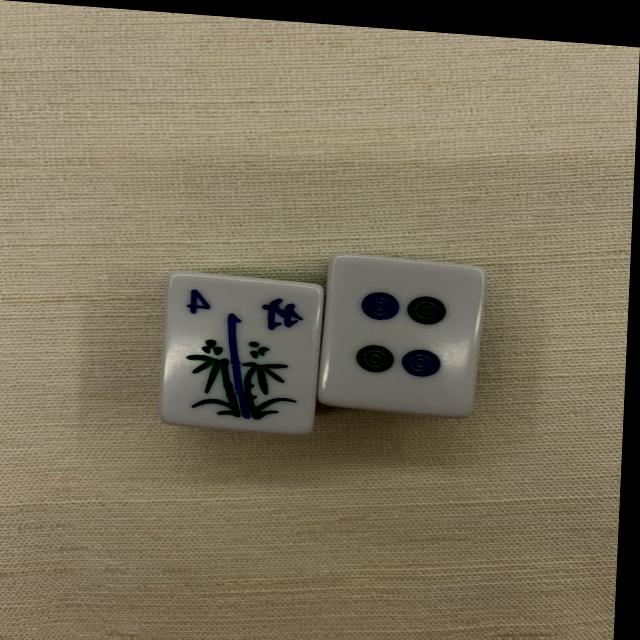f4: (162, 273, 323, 438)
t4: (322, 256, 481, 423)
